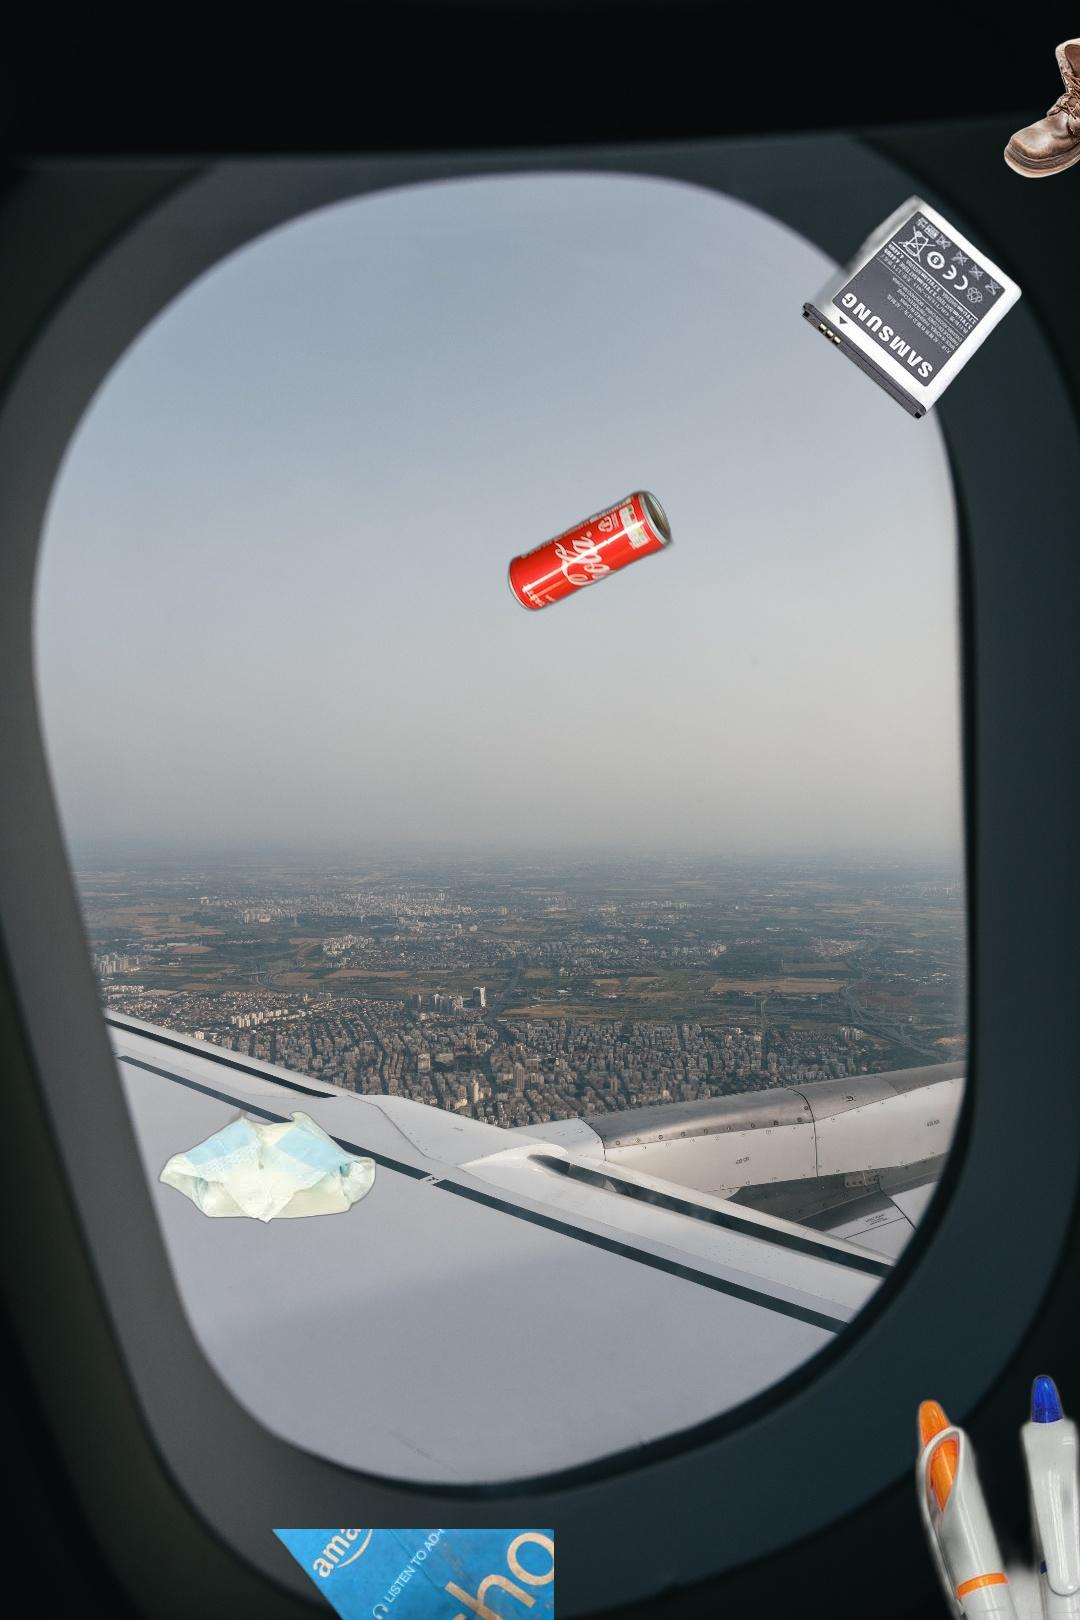battery: (802, 193, 1023, 419)
clothes: (548, 1600, 1053, 1620)
metal-cans: (503, 86, 955, 769)
penholder: (906, 1349, 1080, 1620)
plastic-bottles: (451, 1569, 589, 1620)
shoes: (1000, 31, 1080, 202)
trash: (155, 1107, 378, 1228)
trashbox-cardboard: (42, 1530, 554, 1620)
